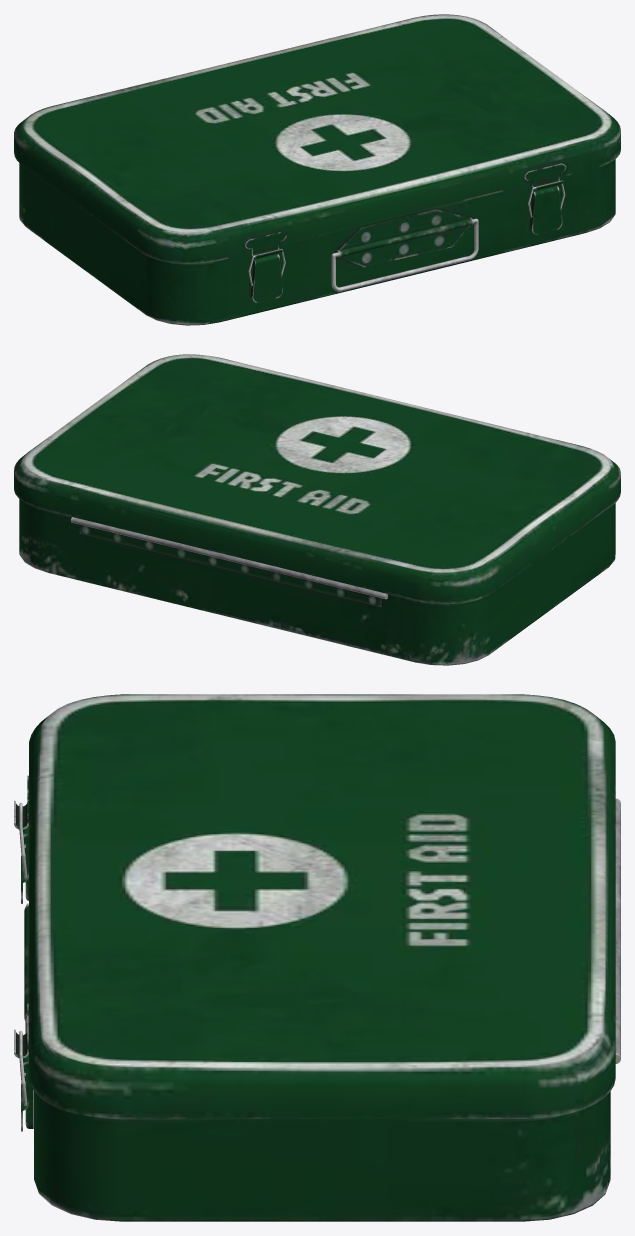
File: medkit.glb
The picture shows the model from 3 angles, top to bottom: view 1: azimuth 30°, elevation 25°; view 2: azimuth 150°, elevation 25°; view 3: azimuth 270°, elevation 25°; orthographic projection. The views are drawn at different scales.
Parts seen in each view (by area): view 1: medical_box_lid, medical_box, medical_box_latch, medical_box_handle; view 2: medical_box_lid, medical_box; view 3: medical_box_lid, medical_box.
Boxes of the visible parts, x1=… form: medical_box_lid: x1=14, y1=14, x2=620, y2=263; medical_box: x1=19, y1=159, x2=615, y2=325; medical_box_latch: x1=251, y1=185, x2=562, y2=302; medical_box_handle: x1=331, y1=218, x2=478, y2=291; medical_box_lid: x1=14, y1=354, x2=620, y2=603; medical_box: x1=19, y1=499, x2=615, y2=665; medical_box_lid: x1=14, y1=694, x2=615, y2=1118; medical_box: x1=24, y1=798, x2=620, y2=1221.
Bounding box in the file's own units: 0.5255 × 0.0975 × 0.3502.
Materials: 1 (1 with a texture image).
